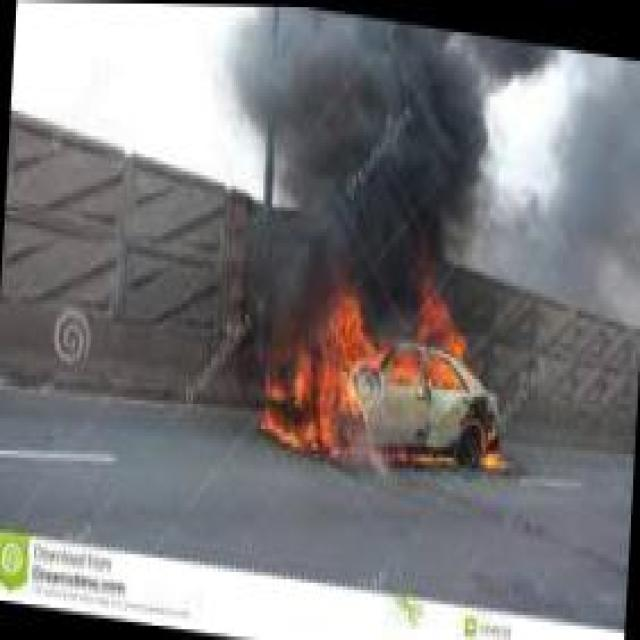Fire: (258, 232, 524, 515)
Smoke: (190, 3, 638, 276)
